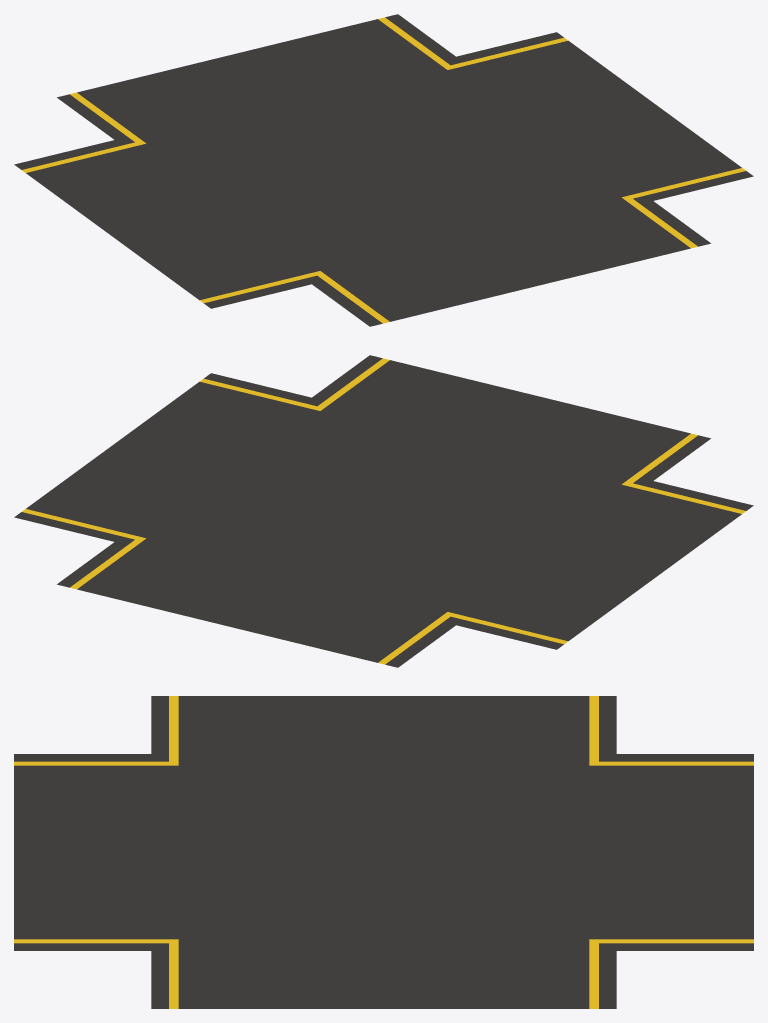
File: crossroad.fbx
3 renders of one model, top to bottom at view 1: azimuth 30°, elevation 25°; view 2: azimuth 150°, elevation 25°; view 3: azimuth 270°, elevation 25°, orthographic. The views are drawn at different scales.
Visible parts, largest first — view 1: Object016; view 2: Object016; view 3: Object016.
Boxes of the visible parts, x1=… form: Object016: x1=14, y1=14, x2=753, y2=326; Object016: x1=14, y1=355, x2=753, y2=667; Object016: x1=14, y1=696, x2=753, y2=1008.
Bounding box in the file's own units: 814 × 0.000176 × 814.
